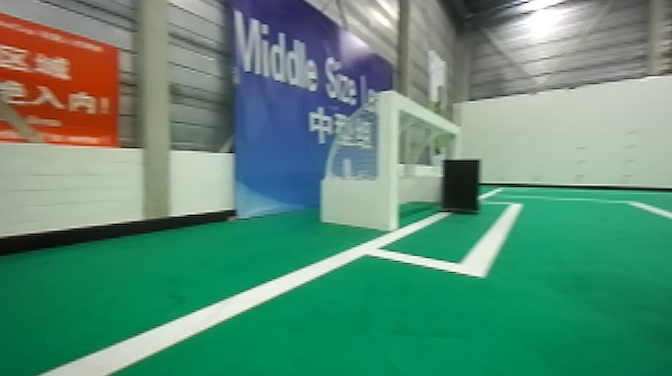goalpost: (374, 89, 400, 231), (447, 125, 464, 156)
